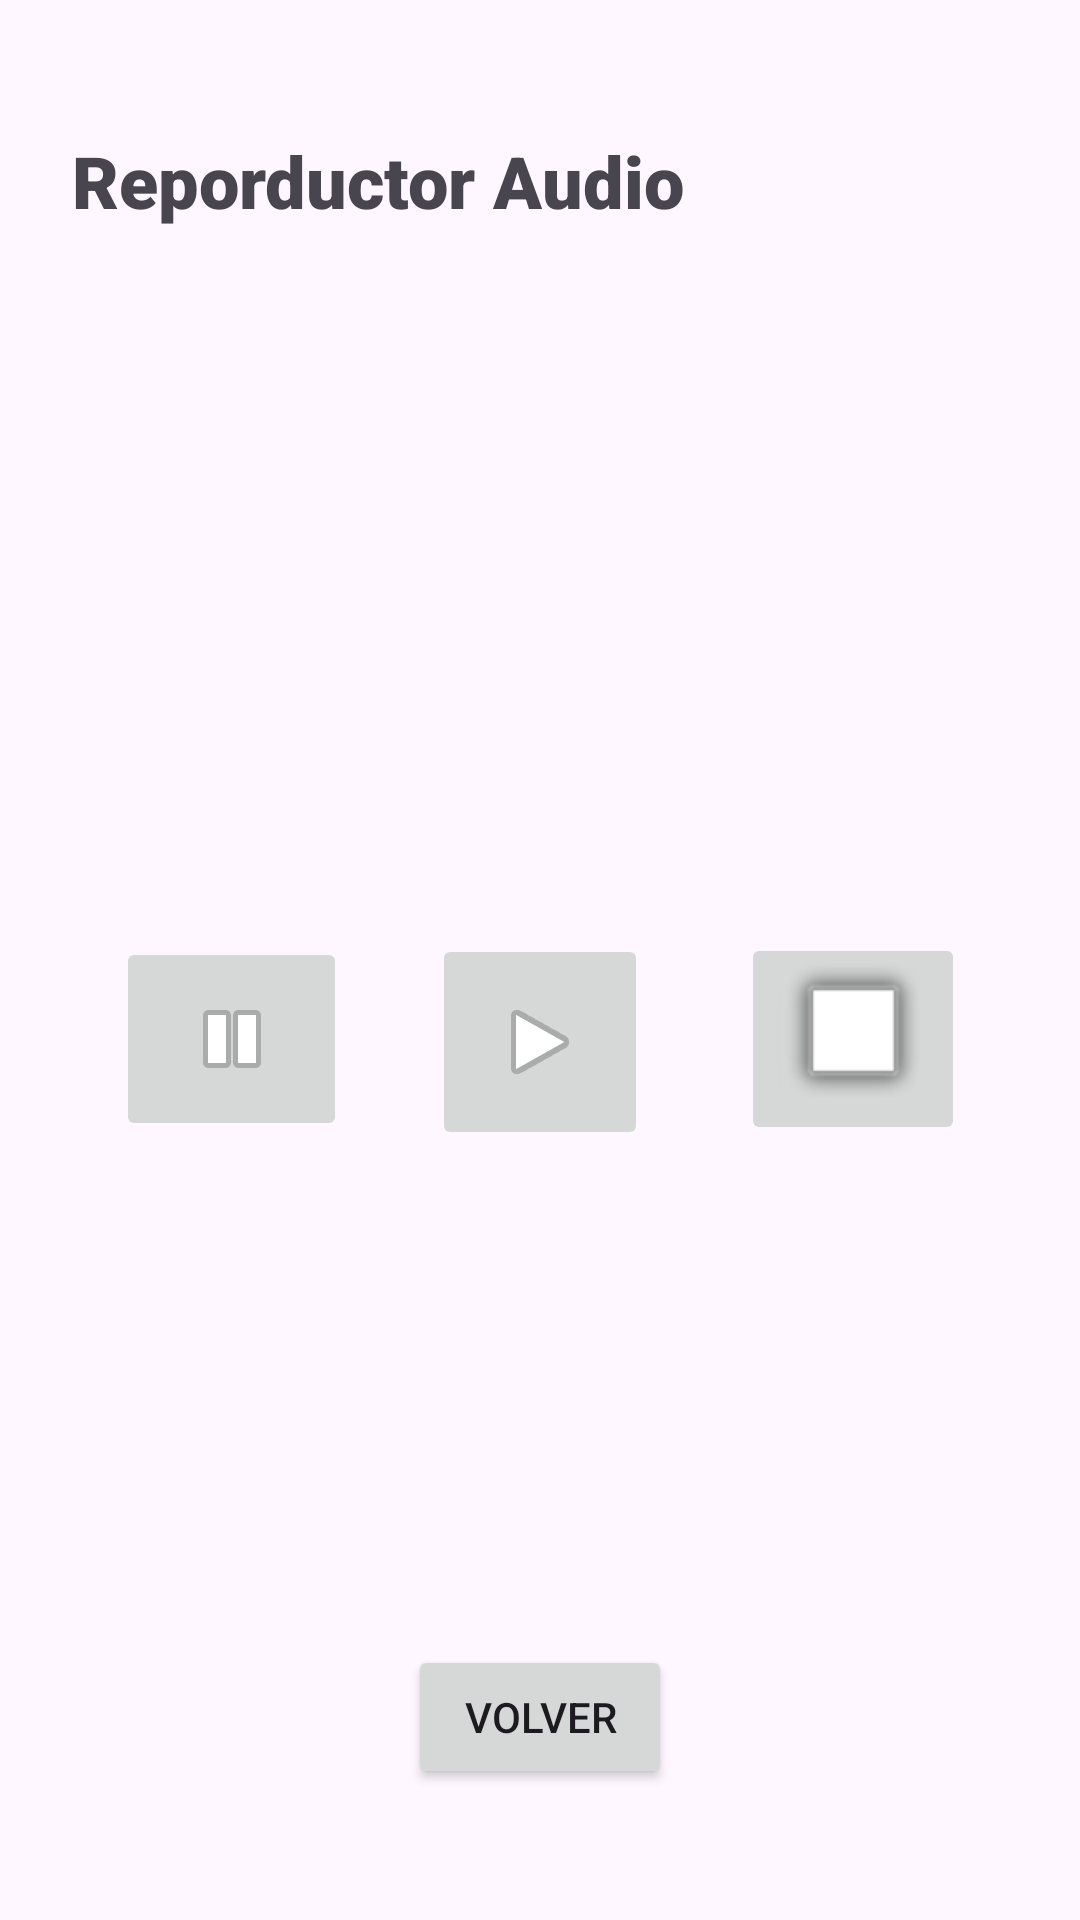

Screen size 1080×1920. Icon name, then its center in pixels as (x,y):
pause: (231,1039)
play: (540,1042)
